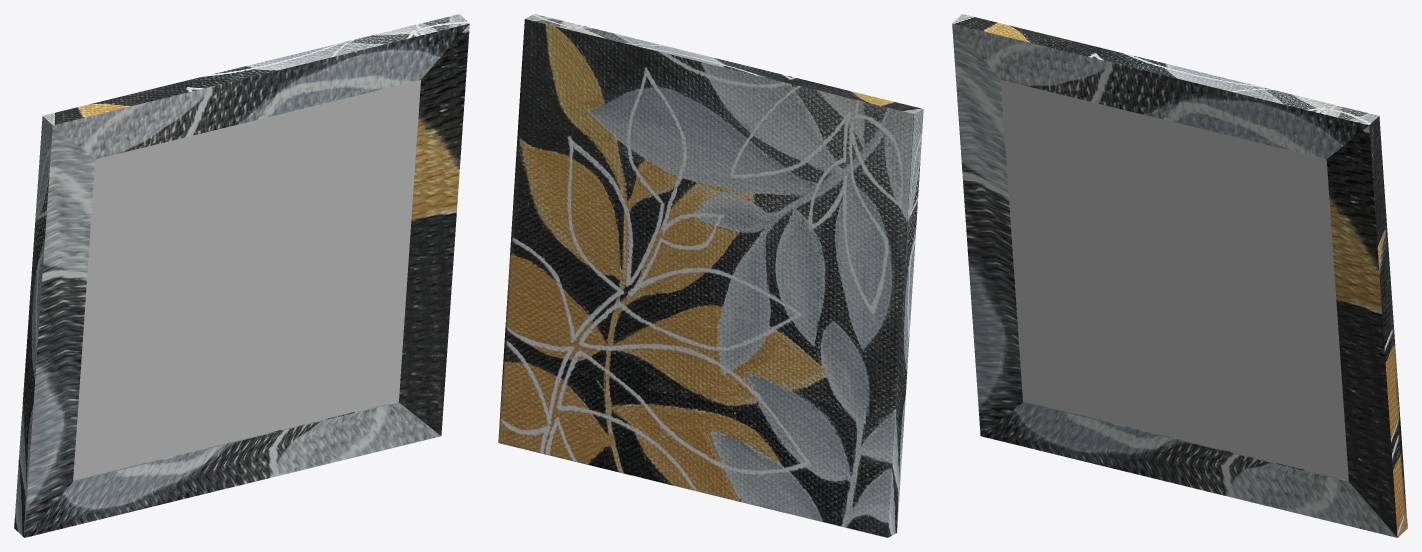
Rendered from GoldenLeaf.gltf.
3 views of the same model, side by side, from view 1: azimuth 30°, elevation 25°; view 2: azimuth 150°, elevation 25°; view 3: azimuth 330°, elevation 25° (orthographic). The views are drawn at different scales.
Parts seen in each view (by area): view 1: Plane.013; view 2: Plane.013; view 3: Plane.013.
Boxes of the visible parts, x1,y1,x2,y2 form: Plane.013: (14, 14, 469, 537); Plane.013: (498, 14, 923, 537); Plane.013: (952, 14, 1407, 537).
Size of the model in its own units: 5 by 4.99 by 0.8026.
Materials: 2 (1 with a texture image).
